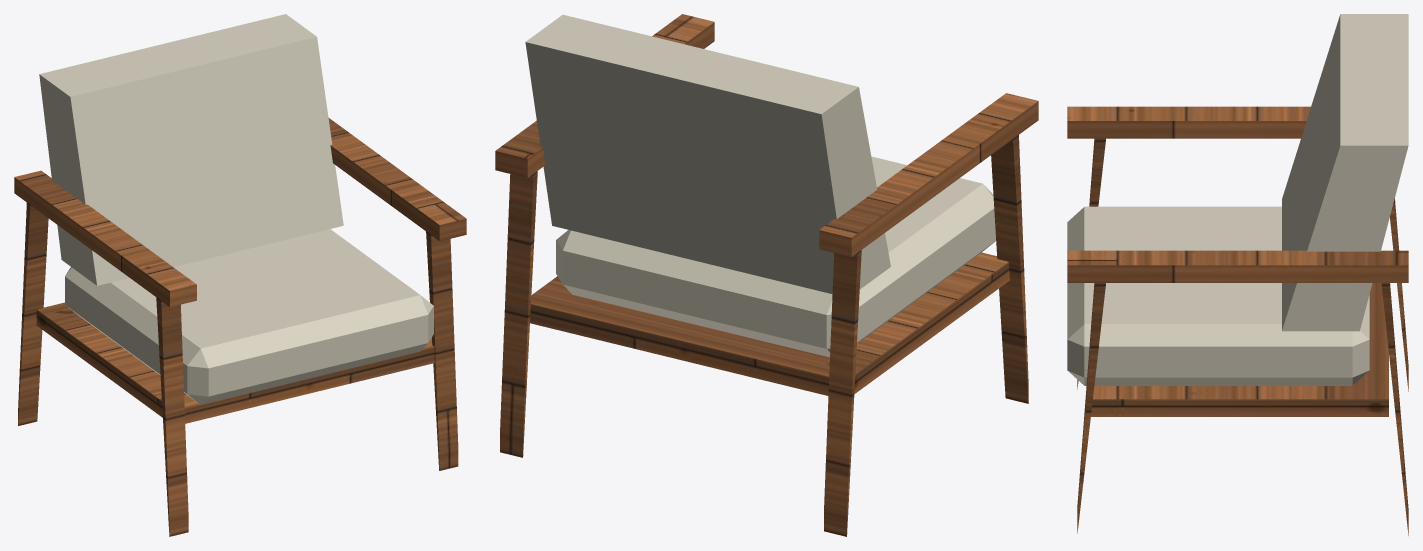
The model's file is armchair_m.glb.
3 renders of one model, left to right at view 1: azimuth 30°, elevation 25°; view 2: azimuth 150°, elevation 25°; view 3: azimuth 270°, elevation 25°, orthographic. The views are drawn at different scales.
Visible parts, largest first — view 1: armchair_m_fabric_m, armchair_m_teak; view 2: armchair_m_fabric_m, armchair_m_teak; view 3: armchair_m_fabric_m, armchair_m_teak.
Part boxes in pixels (x1,y1,x2,y2): armchair_m_fabric_m: [39, 14, 433, 404]; armchair_m_teak: [14, 118, 466, 536]; armchair_m_fabric_m: [525, 14, 996, 357]; armchair_m_teak: [495, 14, 1038, 536]; armchair_m_fabric_m: [1067, 14, 1408, 385]; armchair_m_teak: [1067, 106, 1408, 535].
Size of the model in its own units: 0.77 by 0.86 by 0.7.
Materials: 2 (1 with a texture image).
